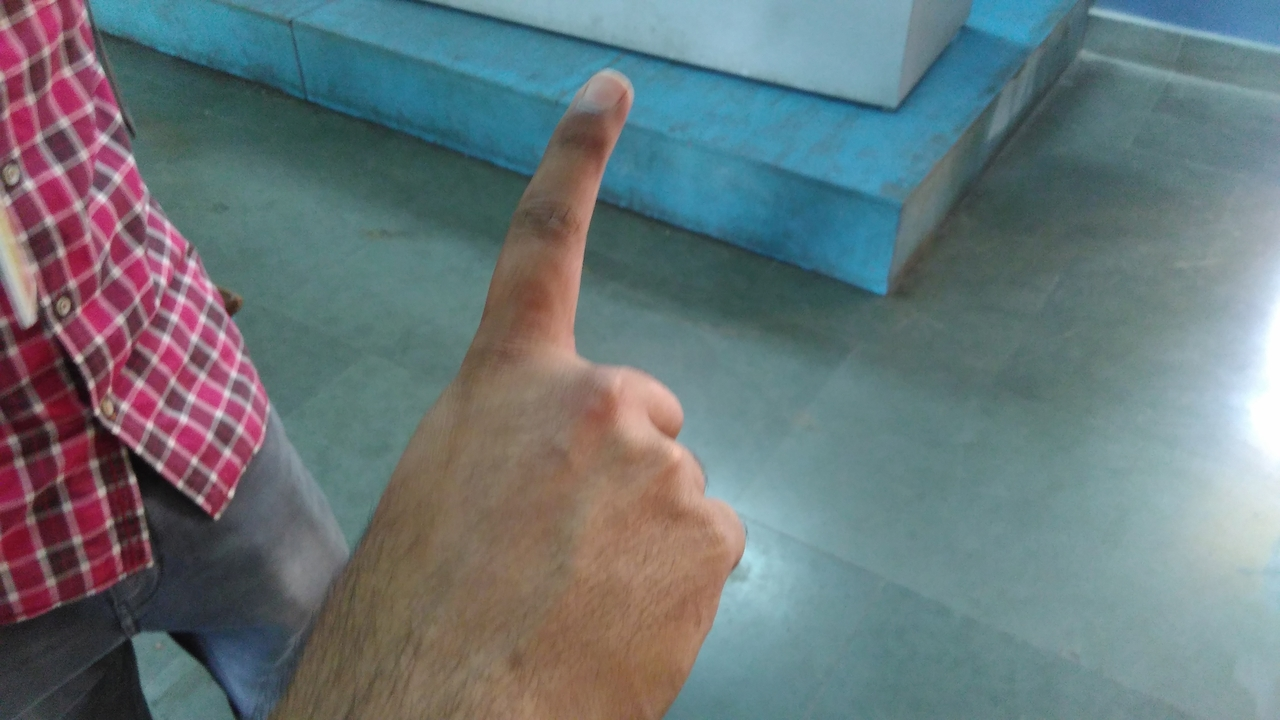fingertip: (562, 62, 642, 122)
